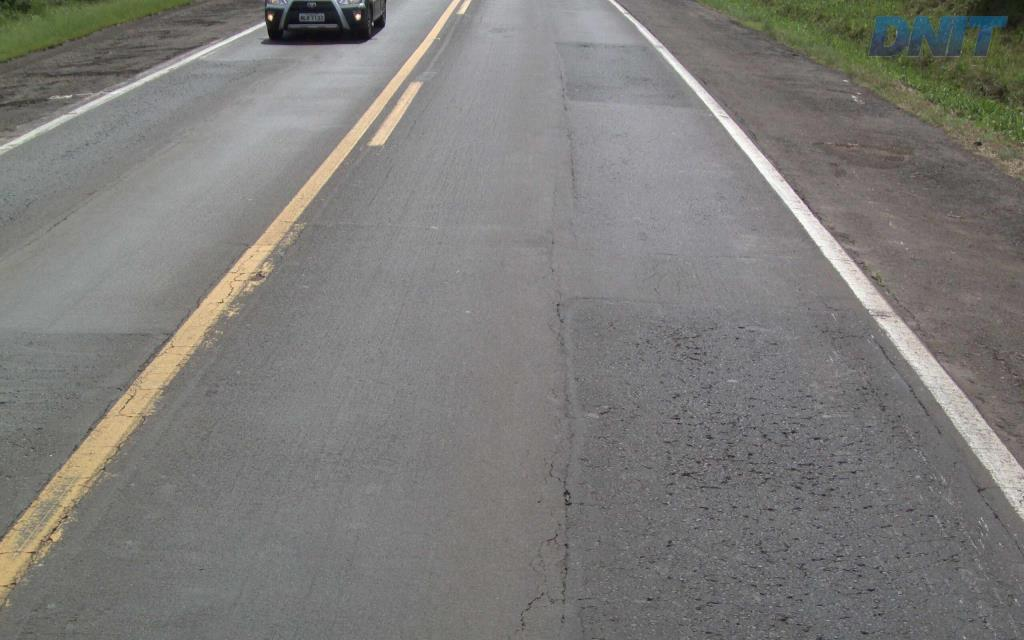crack: (668, 438, 744, 492), (751, 599, 845, 639), (829, 563, 931, 599), (855, 595, 936, 639), (791, 543, 876, 584), (702, 400, 772, 443), (777, 459, 840, 504), (729, 560, 794, 602), (700, 604, 752, 639), (745, 443, 782, 492), (967, 584, 1014, 617)
